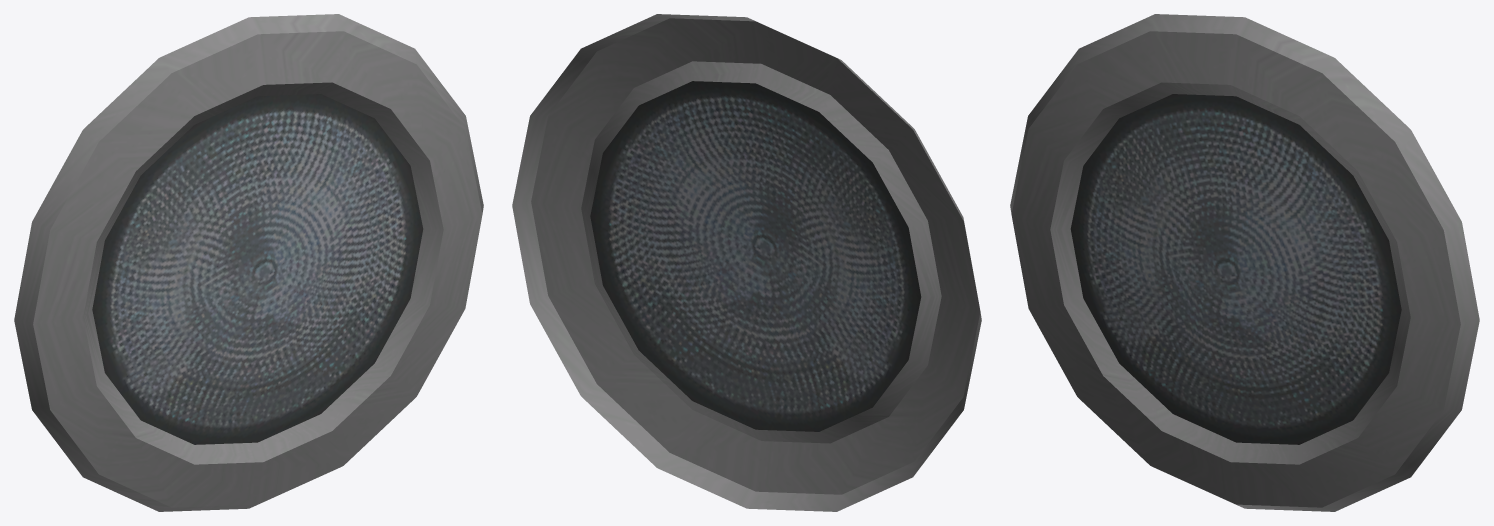
The model's file is nt_2020_light_recessed_off_LOD0.obj.
3 views of the same model, side by side, from view 1: azimuth 30°, elevation 25°; view 2: azimuth 150°, elevation 25°; view 3: azimuth 330°, elevation 25° (orthographic).
Parts seen in each view (by area): view 1: nt_2020_brushed_metal, mtl_nt_2020_light_recessed_off; view 2: nt_2020_brushed_metal, mtl_nt_2020_light_recessed_off; view 3: nt_2020_brushed_metal, mtl_nt_2020_light_recessed_off.
Boxes of the visible parts, left/top/right/bottom form: nt_2020_brushed_metal: left=14, top=14, right=483, bottom=511; mtl_nt_2020_light_recessed_off: left=92, top=94, right=423, bottom=444; nt_2020_brushed_metal: left=512, top=14, right=981, bottom=511; mtl_nt_2020_light_recessed_off: left=590, top=81, right=921, bottom=431; nt_2020_brushed_metal: left=1010, top=14, right=1479, bottom=511; mtl_nt_2020_light_recessed_off: left=1070, top=94, right=1401, bottom=444.
Size of the model in its own units: 26.76 by 26.76 by 1.71.
